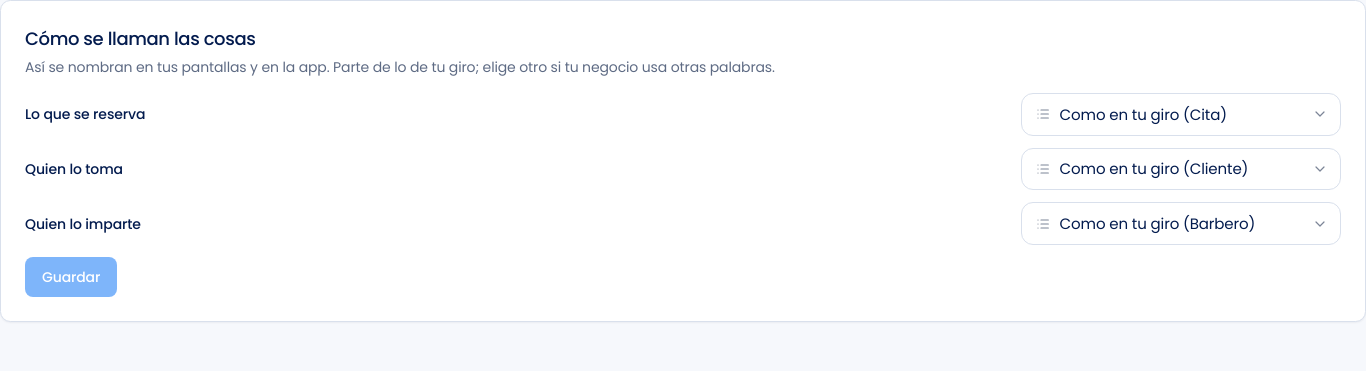
Test: cómo se llaman las cosas › un término rechazado se marca en su campo (ADR 0166)
Select "Estilista" in the dropdown with id "term-instructor" at (1181, 224), box [1021, 202, 1341, 245]
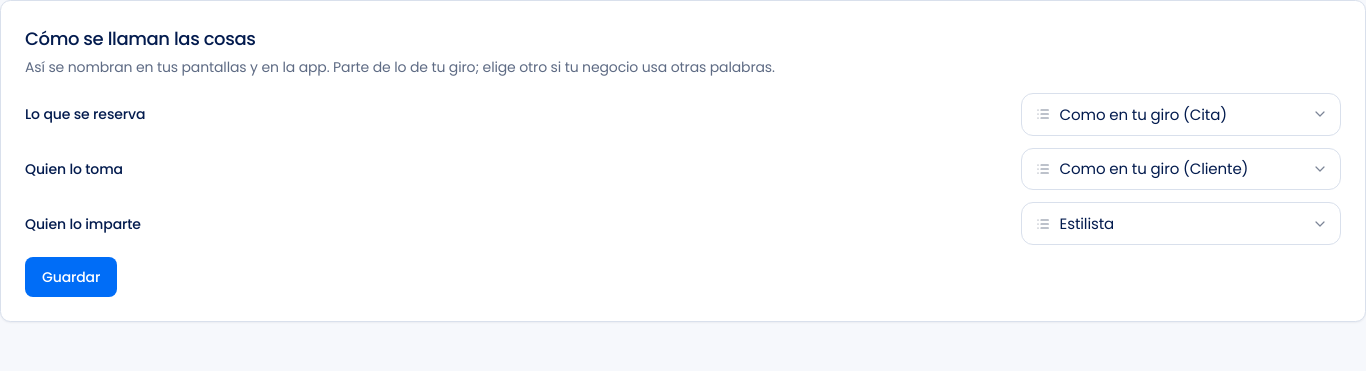
Submit the form, box [25, 93, 1341, 297]
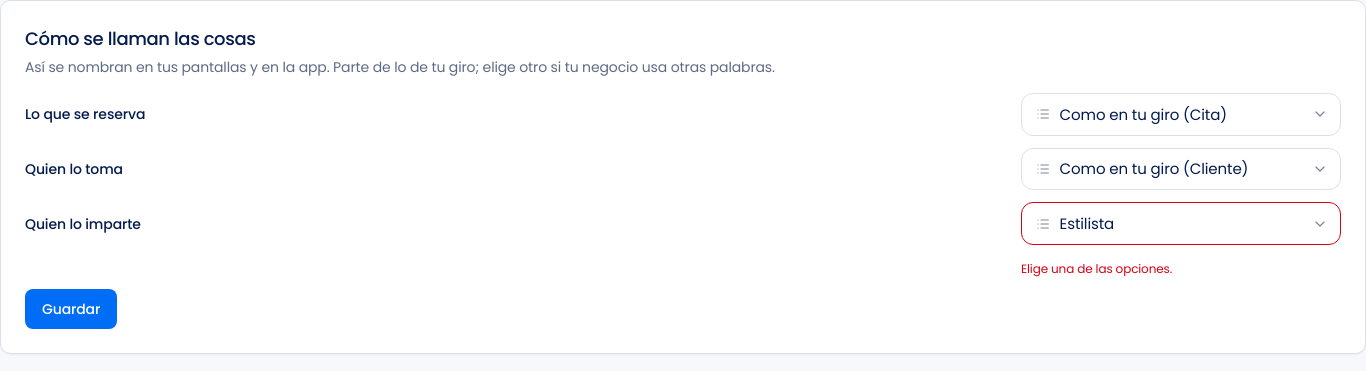
Expected: the message "Elige una de las opciones." is shown, [1021, 260, 1172, 277]
